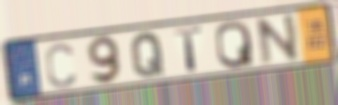9: (83, 34, 123, 86)
C: (44, 42, 78, 90)
N: (253, 12, 302, 67)
Q: (214, 18, 256, 70), (129, 31, 167, 80)
T: (172, 25, 206, 73)
